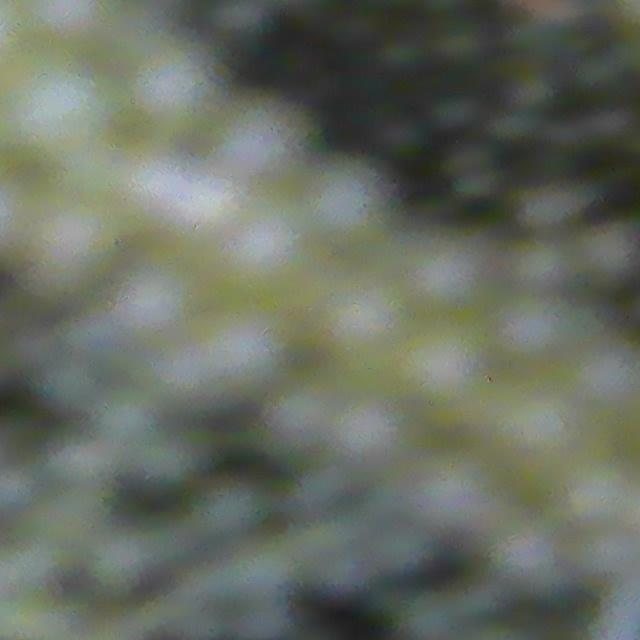SeaGrape: (474, 388, 592, 510), (388, 318, 486, 430), (5, 60, 113, 161), (206, 208, 303, 310), (485, 289, 579, 393), (309, 278, 406, 375), (213, 91, 307, 188), (308, 161, 393, 257), (130, 42, 216, 131), (108, 147, 194, 233), (402, 235, 486, 321), (408, 447, 489, 532), (112, 266, 193, 350), (38, 203, 108, 298), (489, 516, 563, 595), (564, 460, 630, 526)
